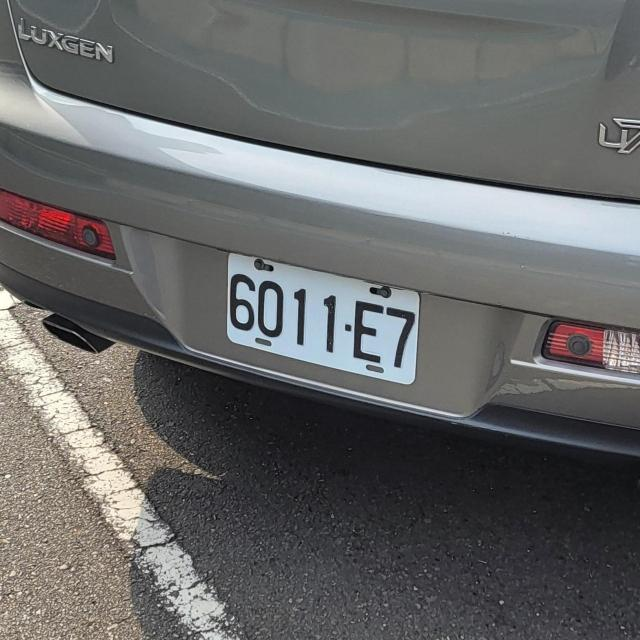W: (218, 248, 429, 387)
